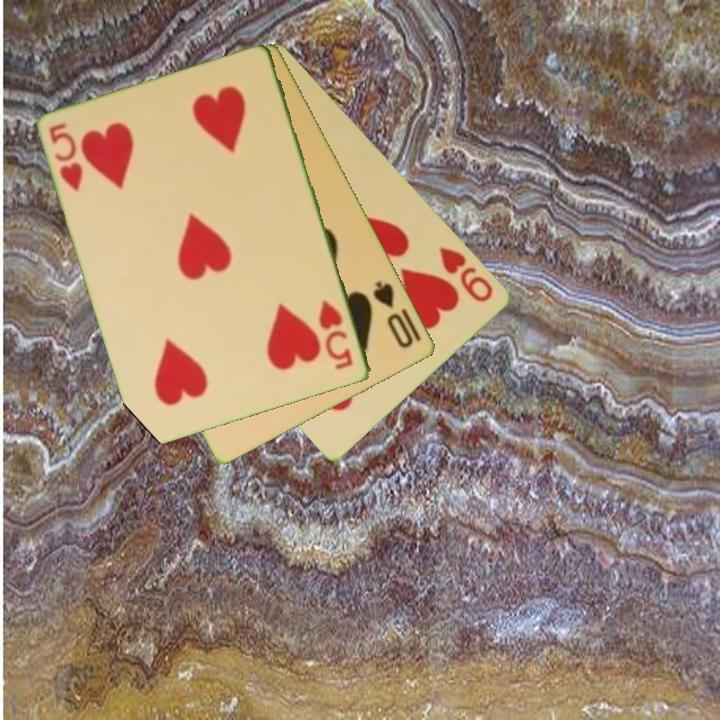10s: (370, 277, 417, 352)
5h: (315, 297, 356, 373), (46, 119, 86, 194)
9h: (436, 243, 497, 306)
